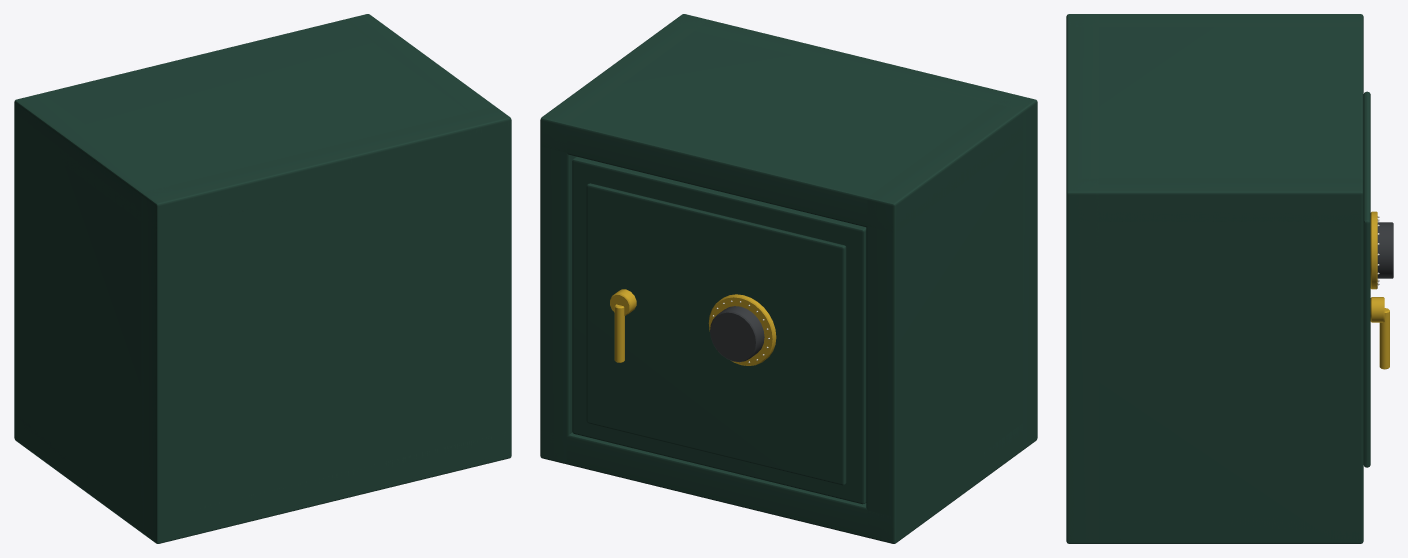
The model's file is prop_safe_wall_small.glb.
3 renders of one model, left to right at view 1: azimuth 30°, elevation 25°; view 2: azimuth 150°, elevation 25°; view 3: azimuth 270°, elevation 25°, orthographic. The views are drawn at different scales.
Parts seen in each view (by area): view 1: Body; view 2: Body, DoorMesh; view 3: Body, DoorMesh.
Boxes of the visible parts, x1,y1,x2,y2 form: Body: (14,14,511,543); Body: (540,14,1037,543); DoorMesh: (572,156,866,504); Body: (1066,14,1363,543); DoorMesh: (1363,91,1393,467).
Size of the model in its own units: 0.6 by 0.55 by 0.4625.
